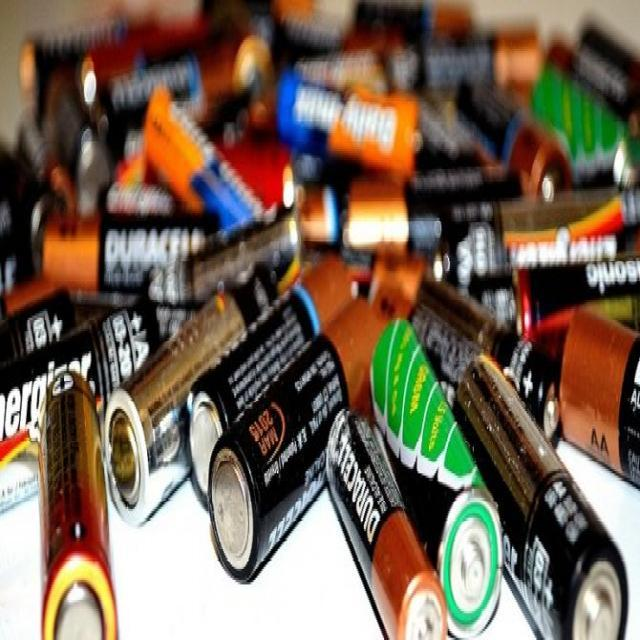battery: (456, 346, 629, 640), (210, 302, 388, 584), (108, 260, 278, 529), (184, 251, 356, 508), (370, 312, 503, 638), (325, 402, 448, 640), (40, 360, 122, 640)
